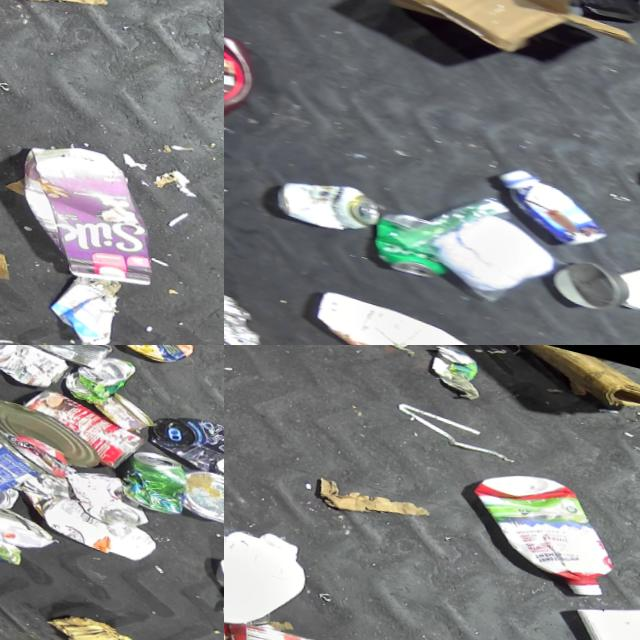can: (2, 382, 144, 475), (259, 167, 380, 243), (352, 203, 454, 285), (0, 393, 97, 471), (133, 405, 224, 488), (45, 462, 147, 532), (534, 250, 627, 316), (104, 443, 185, 515), (49, 345, 133, 410), (0, 410, 46, 511), (165, 464, 224, 533), (79, 386, 150, 436), (0, 345, 68, 393), (0, 345, 115, 372), (224, 609, 322, 640), (0, 495, 48, 552), (99, 345, 196, 368), (195, 553, 224, 616)
milk_jug: (224, 495, 318, 637), (293, 287, 492, 345), (599, 246, 640, 336)
non_white_jug: (0, 132, 167, 293)
